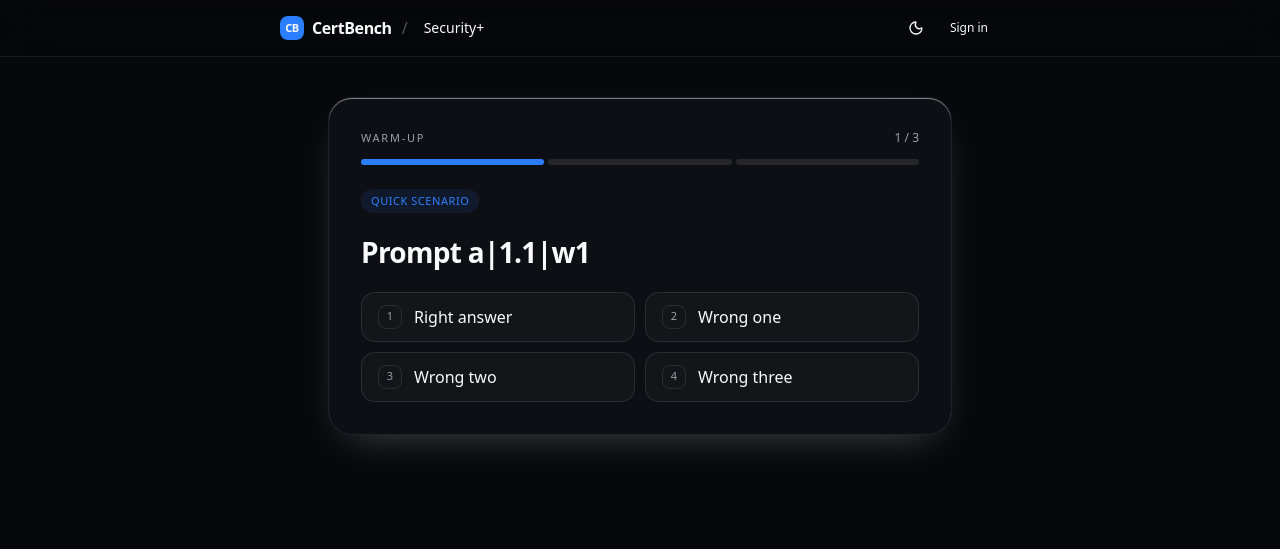
Test: a first visit › shows the takeaway and waits on a miss
Step 1. Click the radio button labelled "2 Wrong one" → (782, 316), box [645,292,919,342]
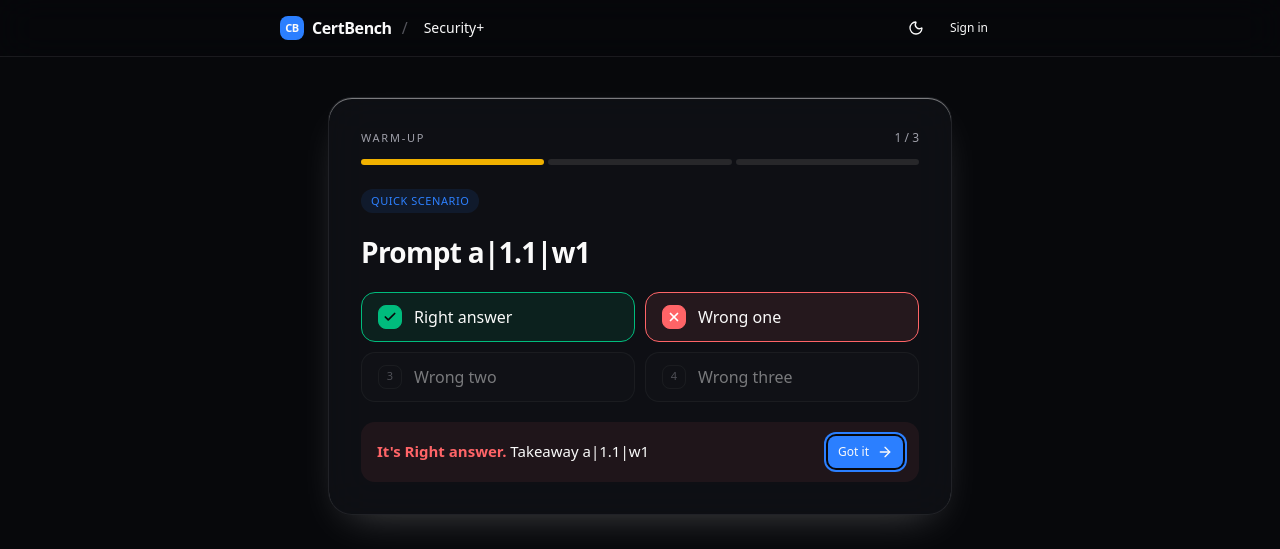
expect the text "It's Right answer." is shown: met, box [377,441,506,461]
expect the text "Takeaway a|1.1|w1" is shown: met, box [510,441,649,461]
expect the button "Got it" is shown: met, box [828,436,903,468]
